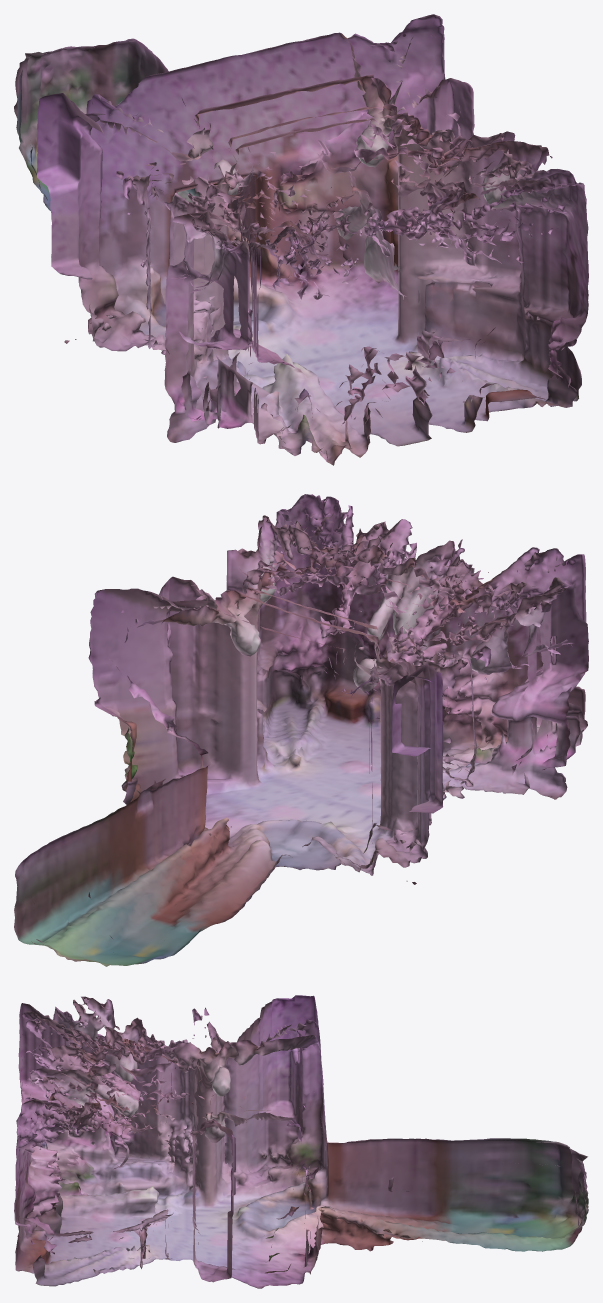
The model's file is ac-sakura-spa_collider.glb.
The picture shows the model from 3 angles, top to bottom: view 1: azimuth 30°, elevation 25°; view 2: azimuth 150°, elevation 25°; view 3: azimuth 270°, elevation 25°; orthographic projection. The views are drawn at different scales.
Parts seen in each view (by area): view 1: world; view 2: world; view 3: world.
Part boxes in pixels (<box>): world: <box>14,14,588,465</box>; world: <box>14,494,588,966</box>; world: <box>14,995,588,1288</box>.
Bounding box in the file's own units: 7.41 × 4.35 × 12.66.
